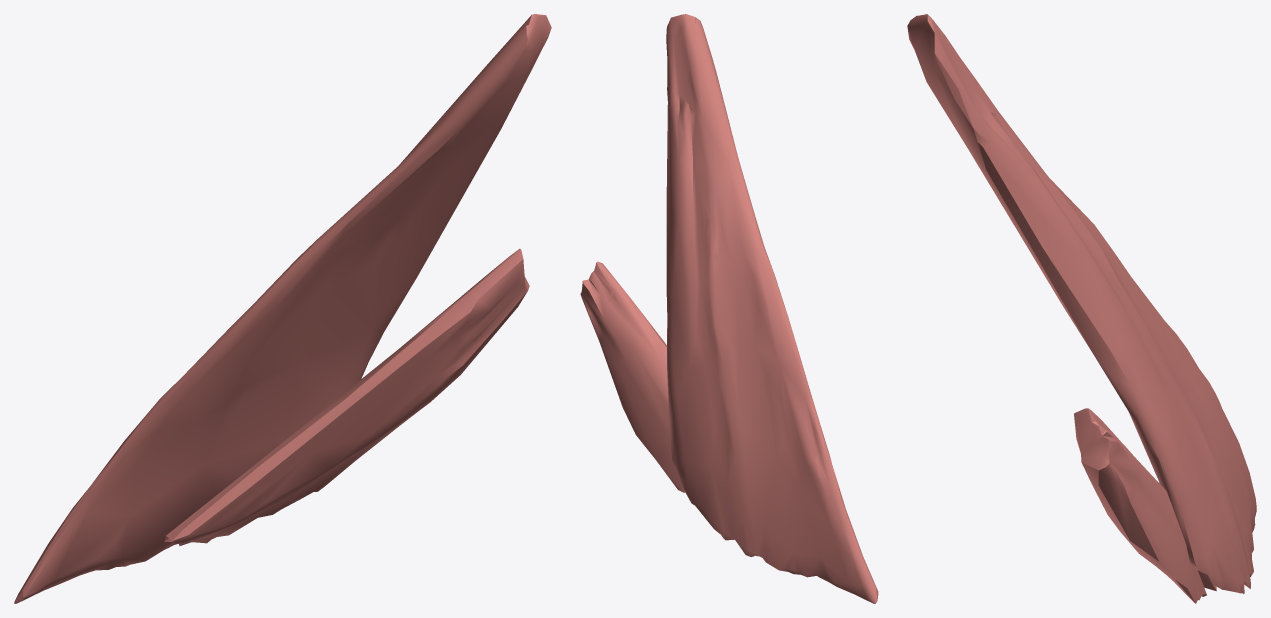
The model's file is fma82372_mm4004m.glb.
The picture shows the model from 3 angles, left to right: view 1: azimuth 30°, elevation 25°; view 2: azimuth 150°, elevation 25°; view 3: azimuth 270°, elevation 25°; orthographic projection. The views are drawn at different scales.
Parts seen in each view (by area): view 1: FMA82372_MM4004M; view 2: FMA82372_MM4004M; view 3: FMA82372_MM4004M.
Boxes of the visible parts, bbox=[...] form: FMA82372_MM4004M: bbox=[14, 14, 551, 603]; FMA82372_MM4004M: bbox=[580, 14, 878, 603]; FMA82372_MM4004M: bbox=[907, 14, 1256, 603].
Bounding box in the file's own units: 0.037 × 0.0463 × 0.0201.
